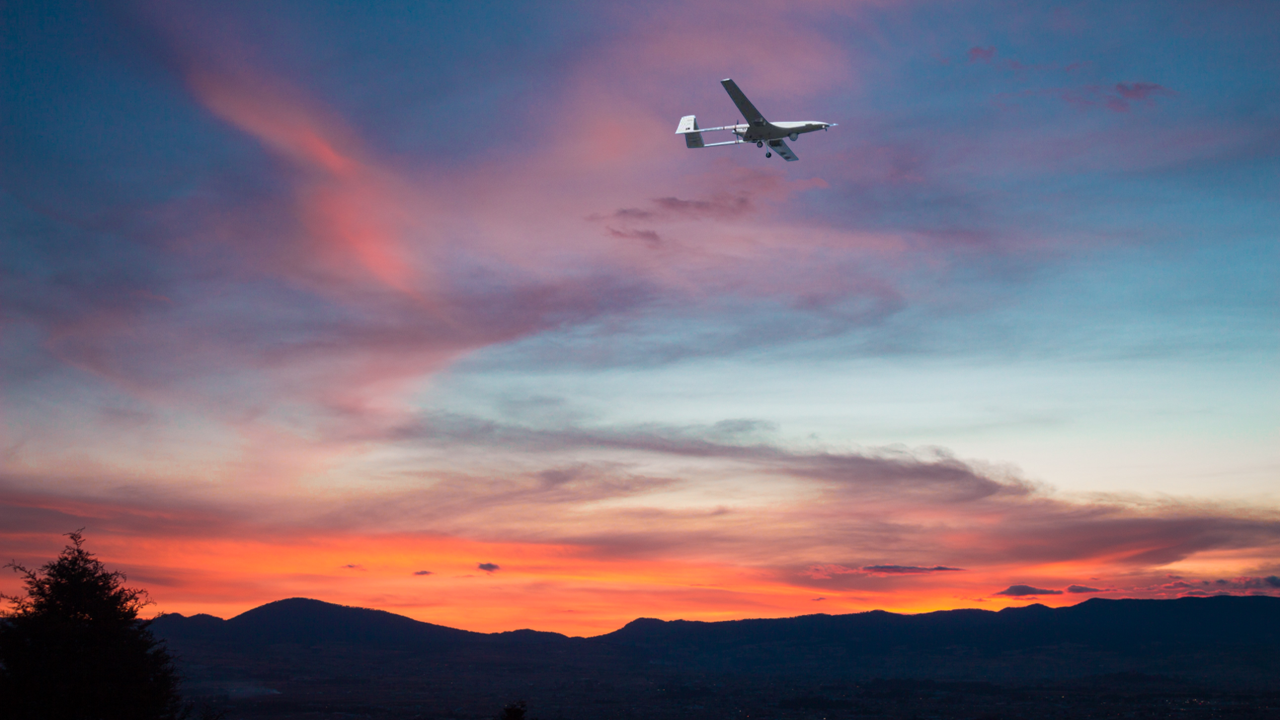military drone: (674, 77, 837, 161)
